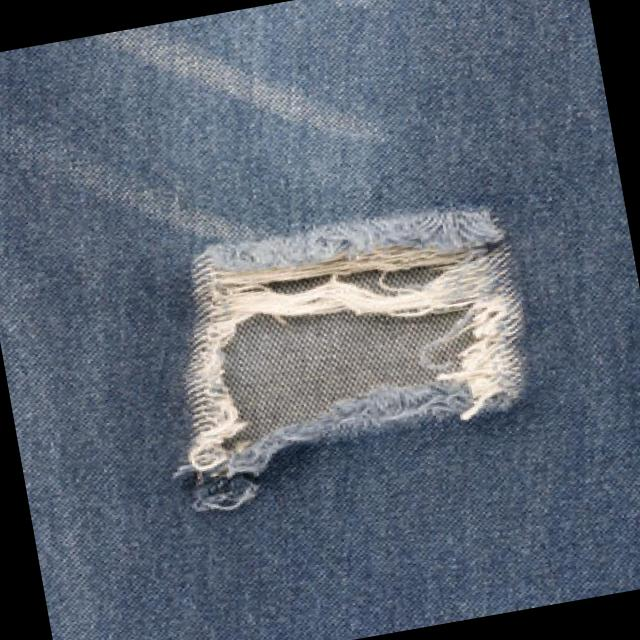hole: (148, 196, 549, 479)
